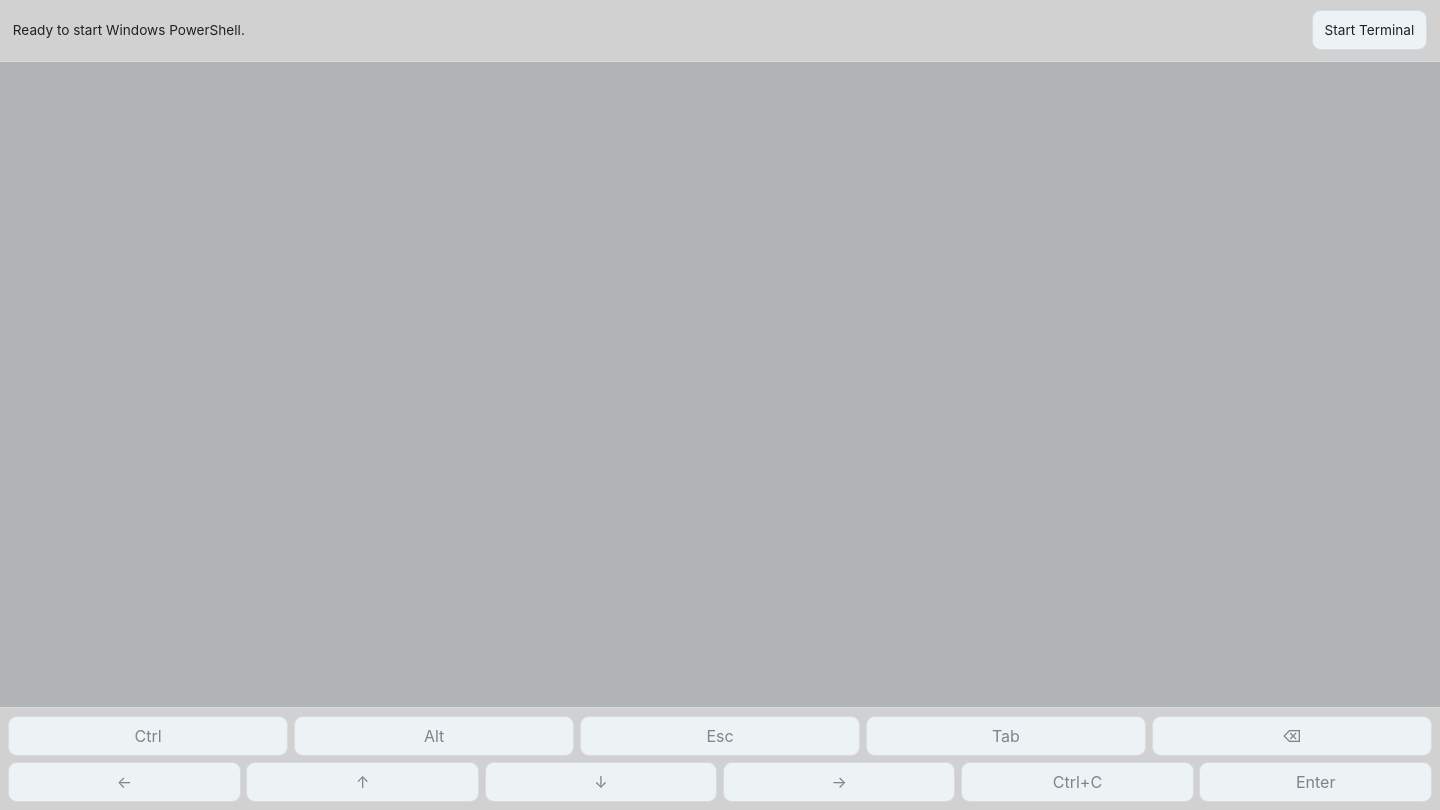
Test: TerminalWorkspace › unblocks a start whose control response never arrives
Click the button "Start Terminal": [1369, 30] box [1312,10,1427,50]
Wait 15000 ms
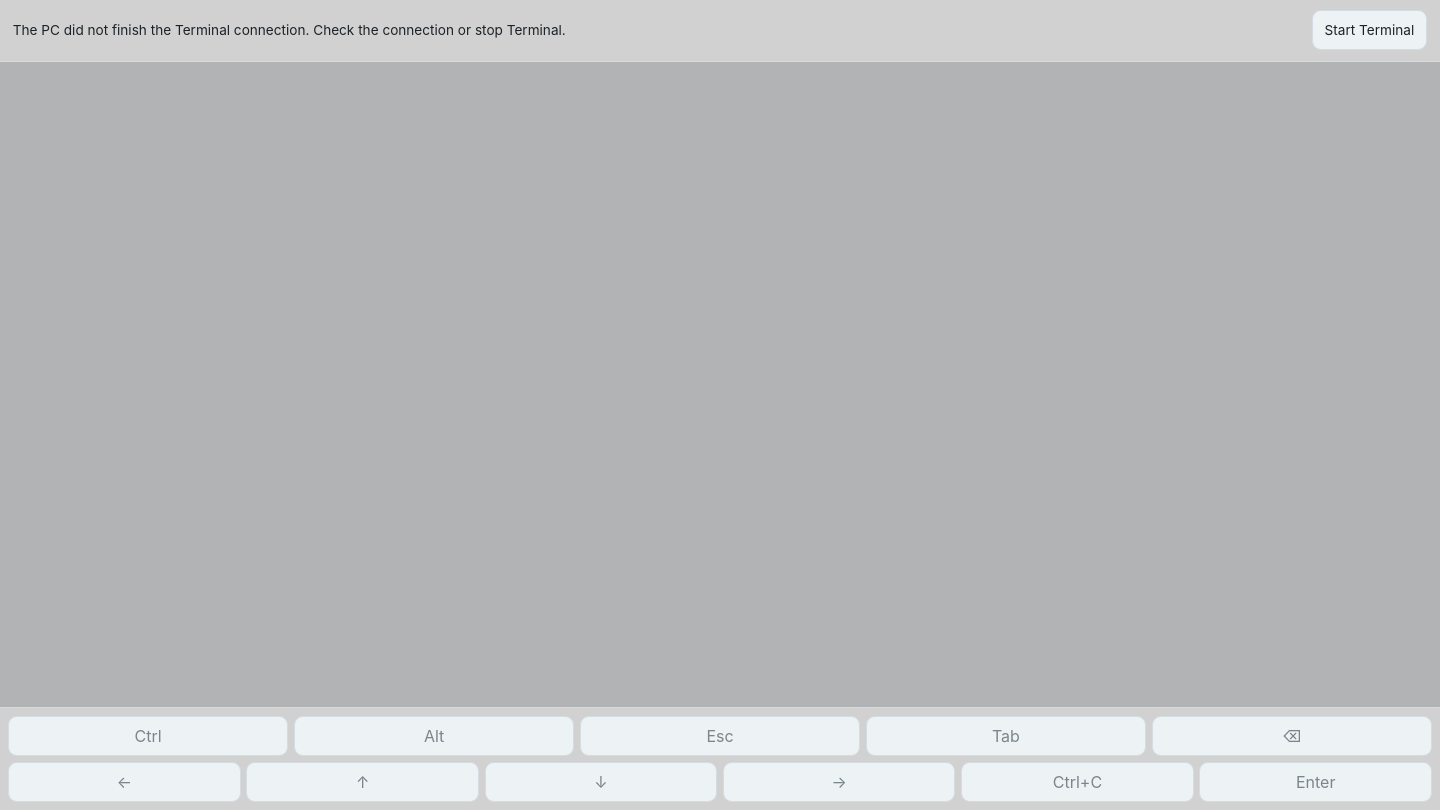
Check: the text "The PC did not finish the Terminal connection. Check the connection or stop Terminal." is shown, box [13,22,566,38]
